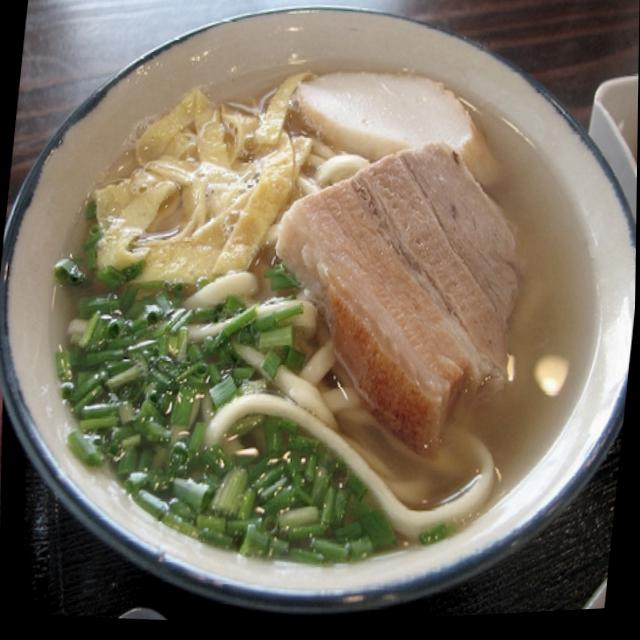面包点心: (0, 113, 638, 578)
